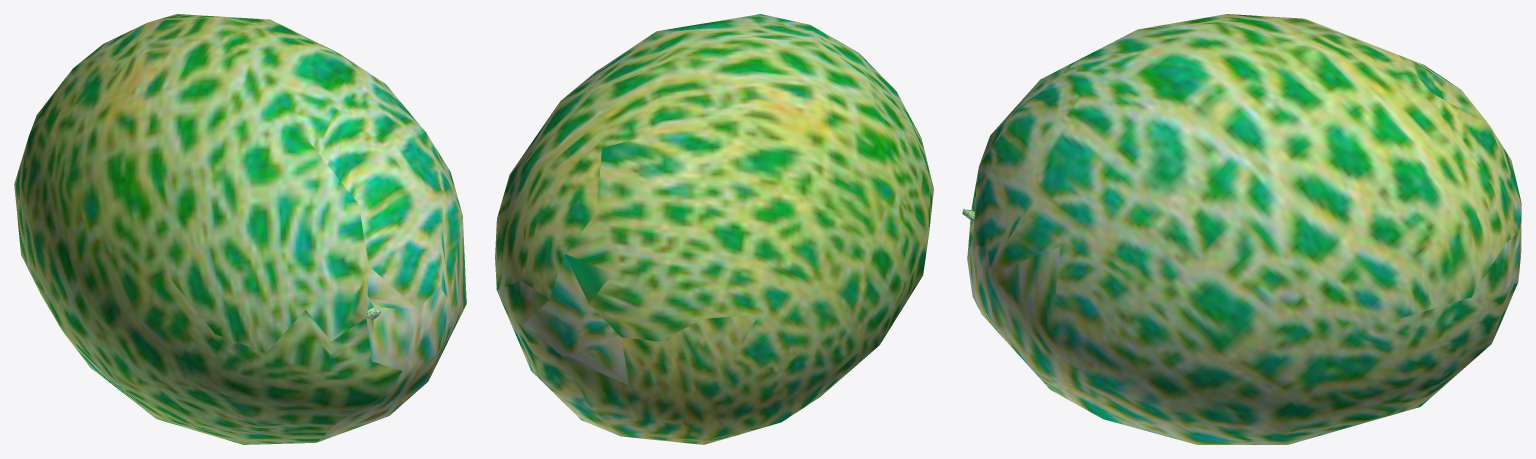
File: melon.obj
The picture shows the model from 3 angles, left to right: view 1: azimuth 30°, elevation 25°; view 2: azimuth 150°, elevation 25°; view 3: azimuth 270°, elevation 25°; orthographic projection. The views are drawn at different scales.
Parts seen in each view (by area): view 1: melon; view 2: melon; view 3: melon.
Part boxes in pixels (left/top/right/bottom): melon: left=14, top=14, right=466, bottom=444; melon: left=495, top=14, right=933, bottom=444; melon: left=962, top=14, right=1521, bottom=444.
Size of the model in its own units: 0.1767 by 0.1805 by 0.2356.
